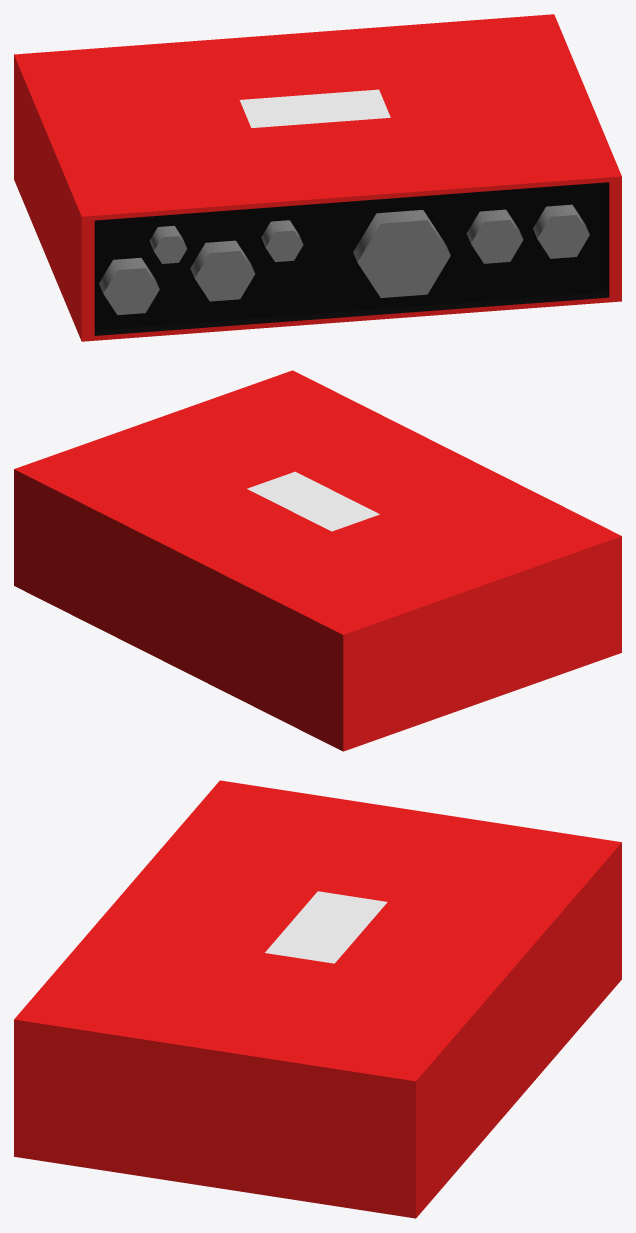
The model's file is soundthing.fbx.
3 renders of one model, top to bottom at view 1: azimuth 30°, elevation 25°; view 2: azimuth 150°, elevation 25°; view 3: azimuth 270°, elevation 25°, orthographic. The views are drawn at different scales.
Parts seen in each view (by area): view 1: Box030; view 2: Box030; view 3: Box030.
Boxes of the visible parts, x1=… form: Box030: x1=14, y1=14, x2=621, y2=341; Box030: x1=14, y1=370, x2=621, y2=751; Box030: x1=14, y1=780, x2=621, y2=1218.
Bounding box in the file's own units: 81.69 × 17.87 × 69.74.
